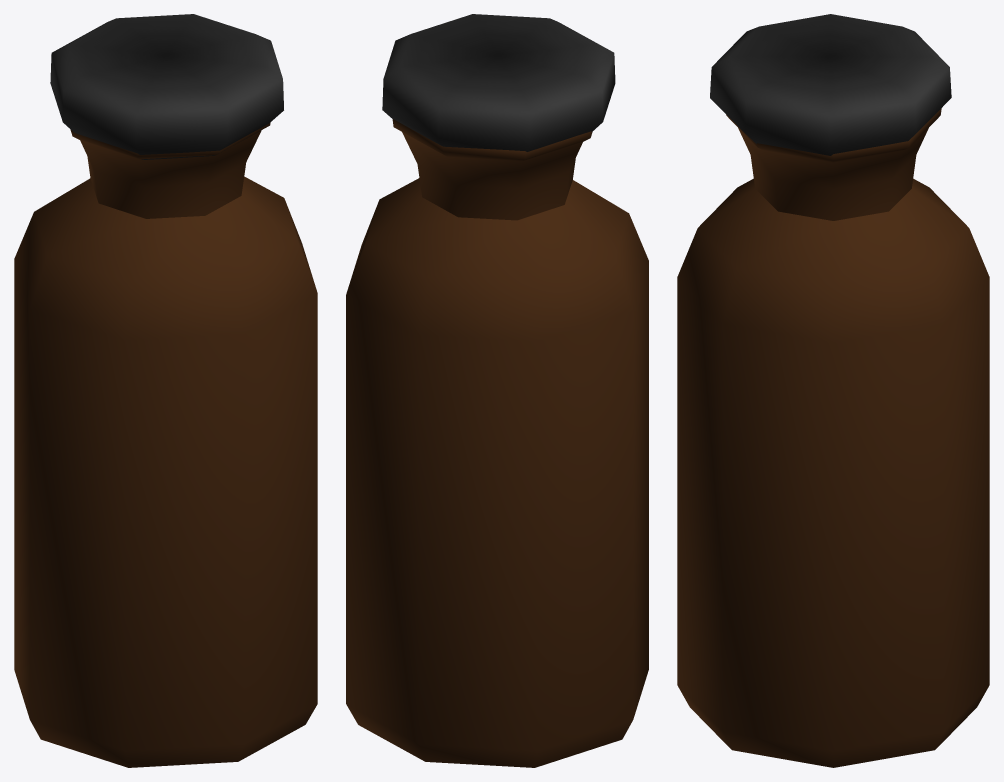
File: CR_sci_Bottle_002.FBX
The picture shows the model from 3 angles, left to right: view 1: azimuth 30°, elevation 25°; view 2: azimuth 150°, elevation 25°; view 3: azimuth 270°, elevation 25°; orthographic projection.
Visible parts, largest first — view 1: CR_sci_Bottle_002, Cap; view 2: CR_sci_Bottle_002, Cap; view 3: CR_sci_Bottle_002, Cap.
Boxes of the visible parts, <box> form: CR_sci_Bottle_002: <box>14,122,317,767</box>; Cap: <box>50,14,283,159</box>; CR_sci_Bottle_002: <box>346,119,648,767</box>; Cap: <box>382,14,615,151</box>; CR_sci_Bottle_002: <box>677,108,989,767</box>; Cap: <box>710,14,951,155</box>.
Size of the model in its own units: 5.98 by 5.98 by 13.73.
